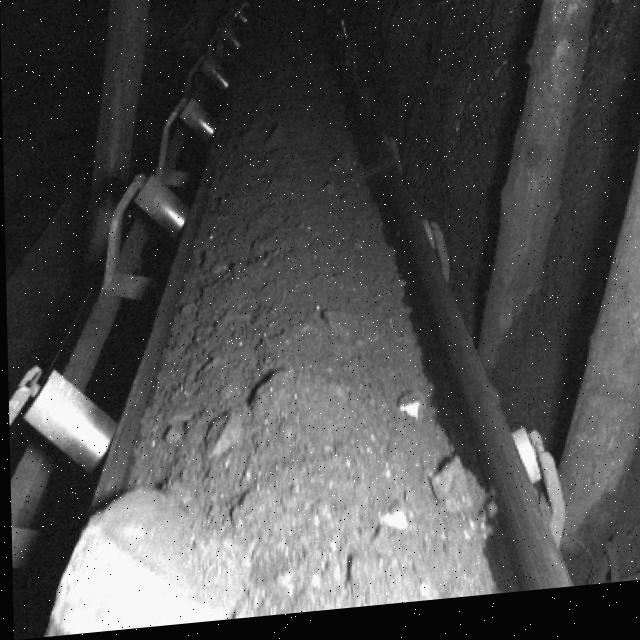large_sized_coal: (42, 498, 224, 637), (203, 376, 294, 469), (427, 466, 490, 528)
